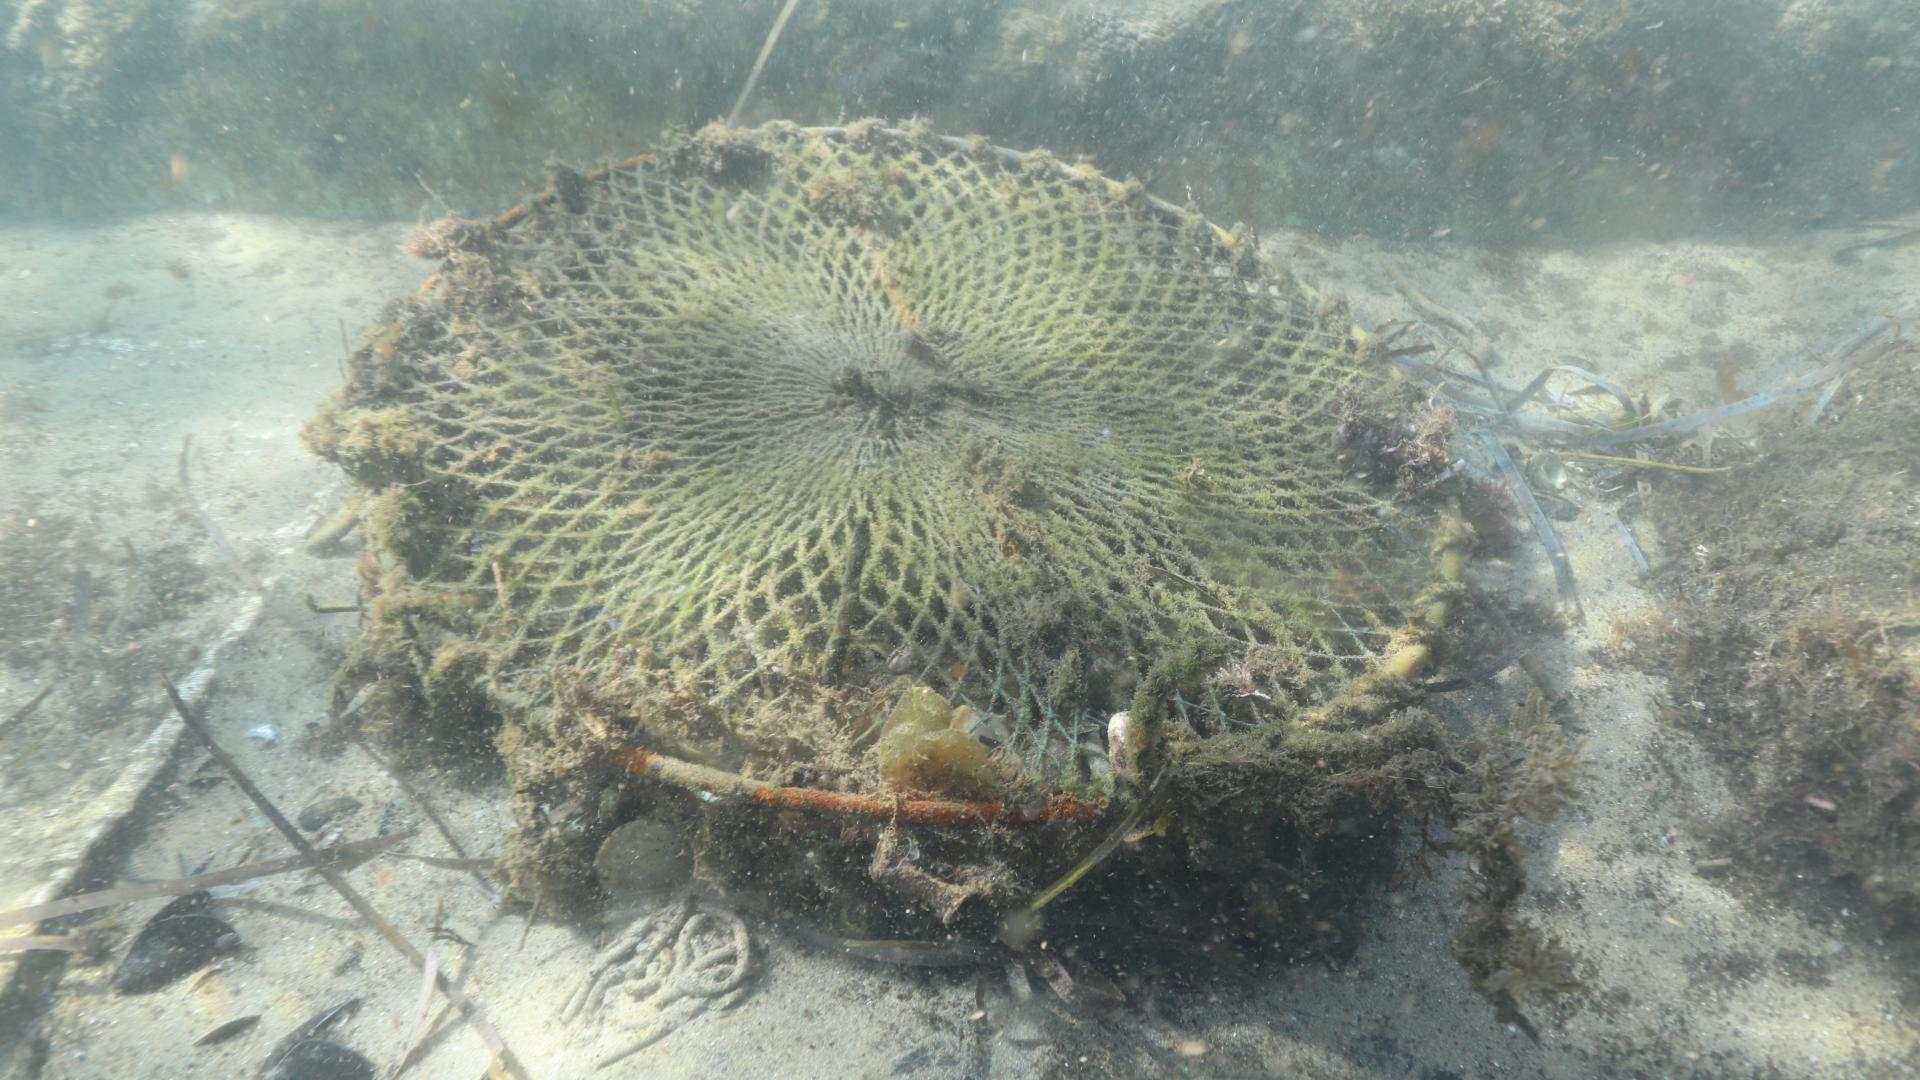circular fish trap: (363, 119, 1472, 928)
